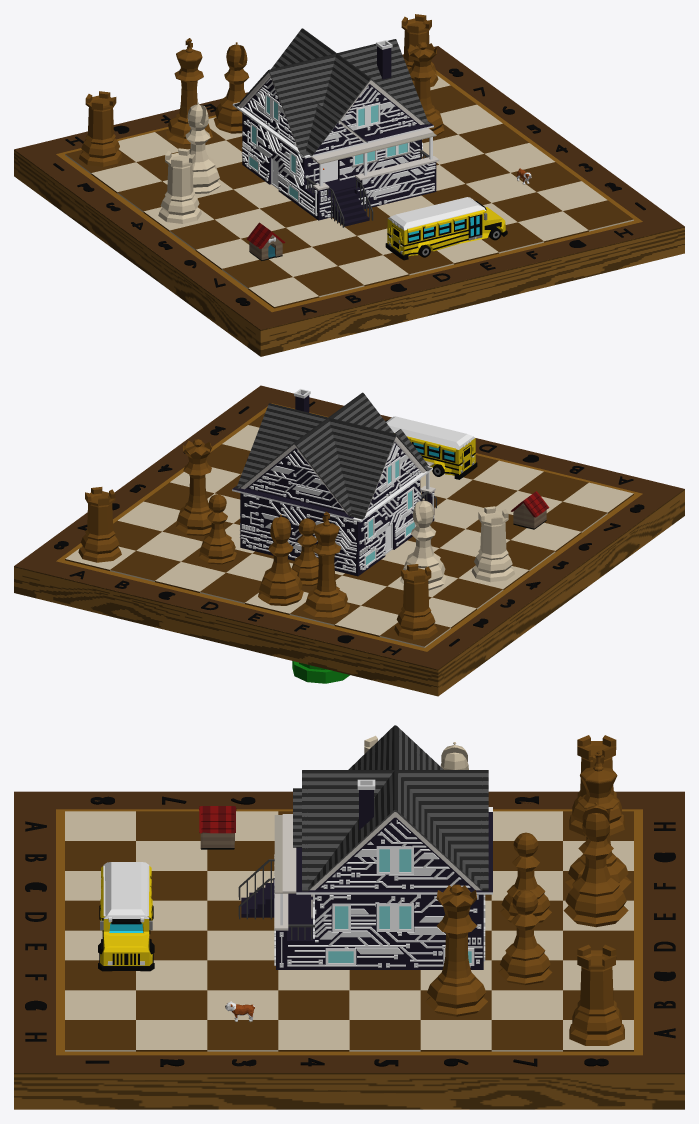
The picture shows the model from 3 angles, top to bottom: view 1: azimuth 30°, elevation 25°; view 2: azimuth 150°, elevation 25°; view 3: azimuth 270°, elevation 25°; orthographic projection. The views are drawn at different scales.
Visible parts, largest first — view 1: Cube.002, Cube.918, VEHICLES_SCHOOL_BUS, OBJRANDOM_DOGHOUSE; view 2: Cube.002, Cube.918, VEHICLES_SCHOOL_BUS, OBJRANDOM_DOGHOUSE, UNDERGROUND_PIPES; view 3: Cube.002, Cube.918, VEHICLES_SCHOOL_BUS, OBJRANDOM_DOGHOUSE.
Part boxes in pixels (left/top/right/bottom): Cube.002: left=14, top=14, right=684, bottom=356; Cube.918: left=232, top=28, right=439, bottom=227; VEHICLES_SCHOOL_BUS: left=385, top=197, right=507, bottom=260; OBJRANDOM_DOGHOUSE: left=247, top=222, right=285, bottom=260; Cube.002: left=14, top=385, right=684, bottom=696; Cube.918: left=232, top=389, right=436, bottom=576; VEHICLES_SCHOOL_BUS: left=385, top=416, right=477, bottom=479; OBJRANDOM_DOGHOUSE: left=511, top=491, right=549, bottom=529; UNDERGROUND_PIPES: left=292, top=661, right=349, bottom=683; Cube.002: left=14, top=735, right=684, bottom=1109; Cube.918: left=238, top=725, right=492, bottom=969; VEHICLES_SCHOOL_BUS: left=98, top=862, right=154, bottom=971; OBJRANDOM_DOGHOUSE: left=199, top=806, right=236, bottom=849.
Size of the model in its own units: 3981 by 2068 by 4012.
Materials: 45 (2 with a texture image).
